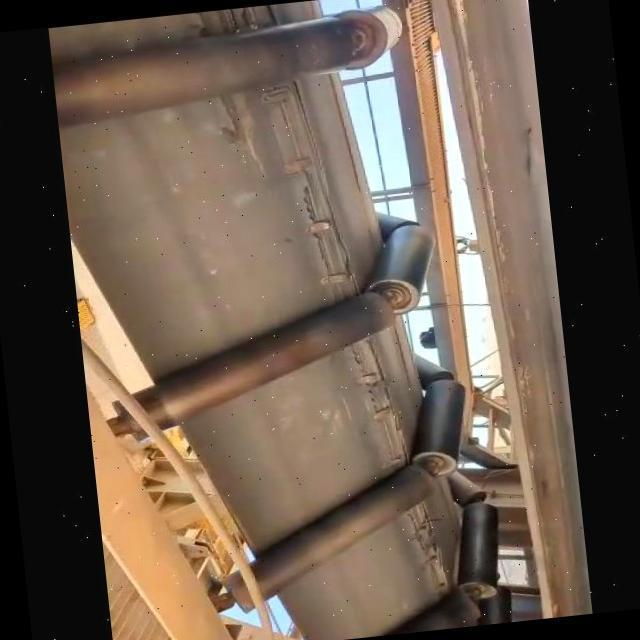Tear: (245, 82, 376, 300), (334, 334, 422, 468), (399, 502, 464, 592)
Wear: (210, 95, 270, 179)
